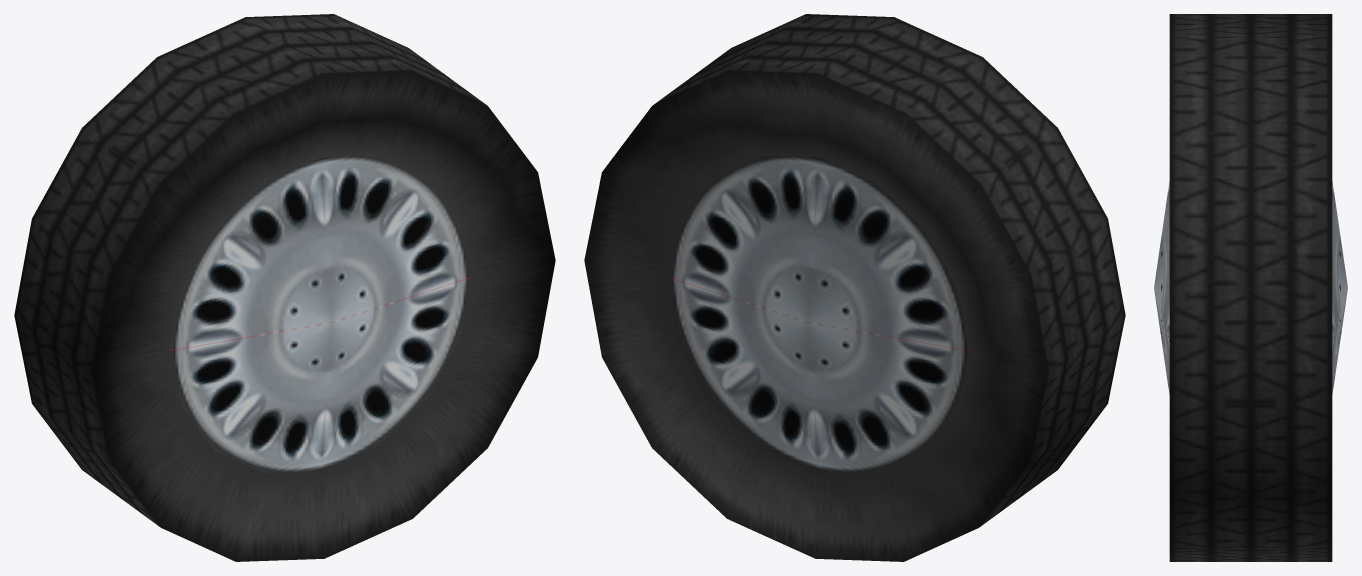
The model's file is iconCopy.ico.obj.
The picture shows the model from 3 angles, left to right: view 1: azimuth 30°, elevation 25°; view 2: azimuth 150°, elevation 25°; view 3: azimuth 270°, elevation 25°; orthographic projection. The views are drawn at different scales.
Bounding box in the file's own units: 2.85 × 2.85 × 1.01.
Materials: 1 (1 with a texture image).
